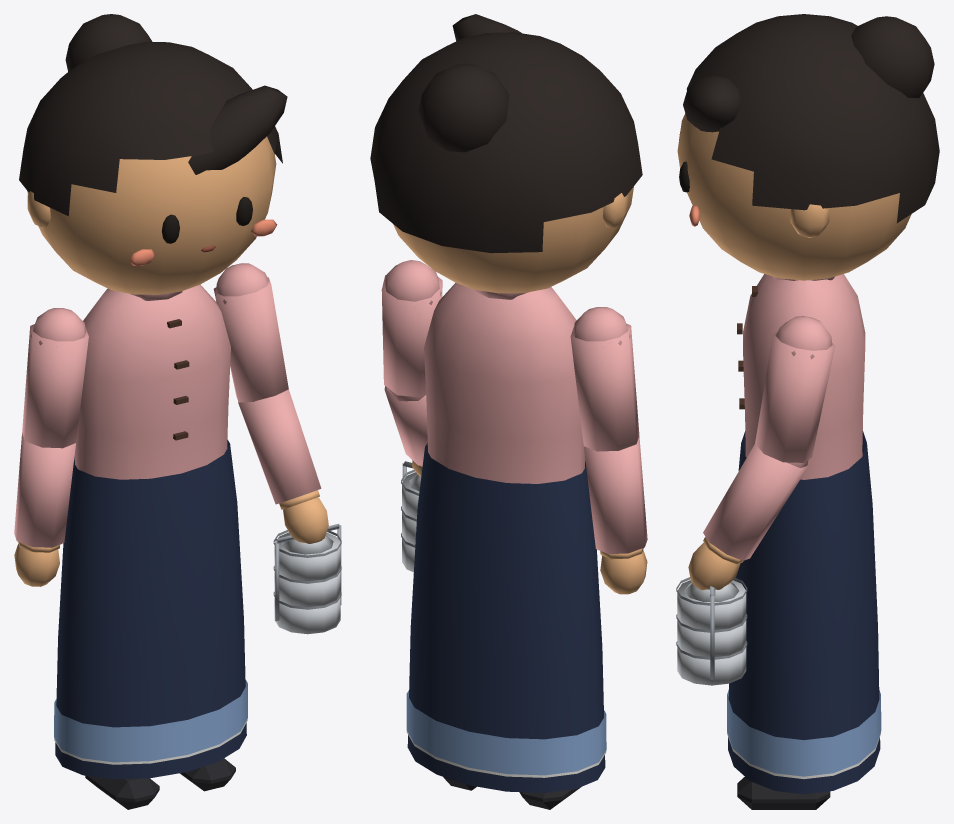
The model's file is south_baba_woman.glb.
3 views of the same model, side by side, from view 1: azimuth 30°, elevation 25°; view 2: azimuth 150°, elevation 25°; view 3: azimuth 270°, elevation 25° (orthographic). The views are drawn at different scales.
Parts seen in each view (by area): view 1: body, head, arm_R, forearm_L, arm_L, forearm_R, prop_tiffin, shin_R, shin_L; view 2: body, head, arm_R, forearm_R, arm_L, forearm_L, prop_tiffin, shin_R; view 3: head, body, arm_L, forearm_L, prop_tiffin, shin_L.
Boxes of the visible parts, x1,y1,x2,y2 form: body: (54,284,247,779); head: (19,14,287,294); arm_R: (22,308,88,448); forearm_L: (238,389,328,543); arm_L: (213,263,288,402); forearm_R: (14,433,75,586); prop_tiffin: (273,523,341,634); shin_R: (85,775,159,809); shin_L: (180,758,235,791); body: (406,283,606,792); head: (370,14,642,293); arm_R: (570,307,639,451); forearm_R: (583,436,647,594); arm_L: (381,260,442,401); forearm_L: (384,386,427,476); prop_tiffin: (401,461,421,572); shin_R: (519,787,580,809); head: (677,14,939,280); body: (727,274,881,794); arm_L: (755,316,835,467); forearm_L: (688,444,808,590); prop_tiffin: (676,577,747,685); shin_L: (737,777,830,809).
Bounding box in the file's own units: 0.5873 × 1.47 × 0.459.
